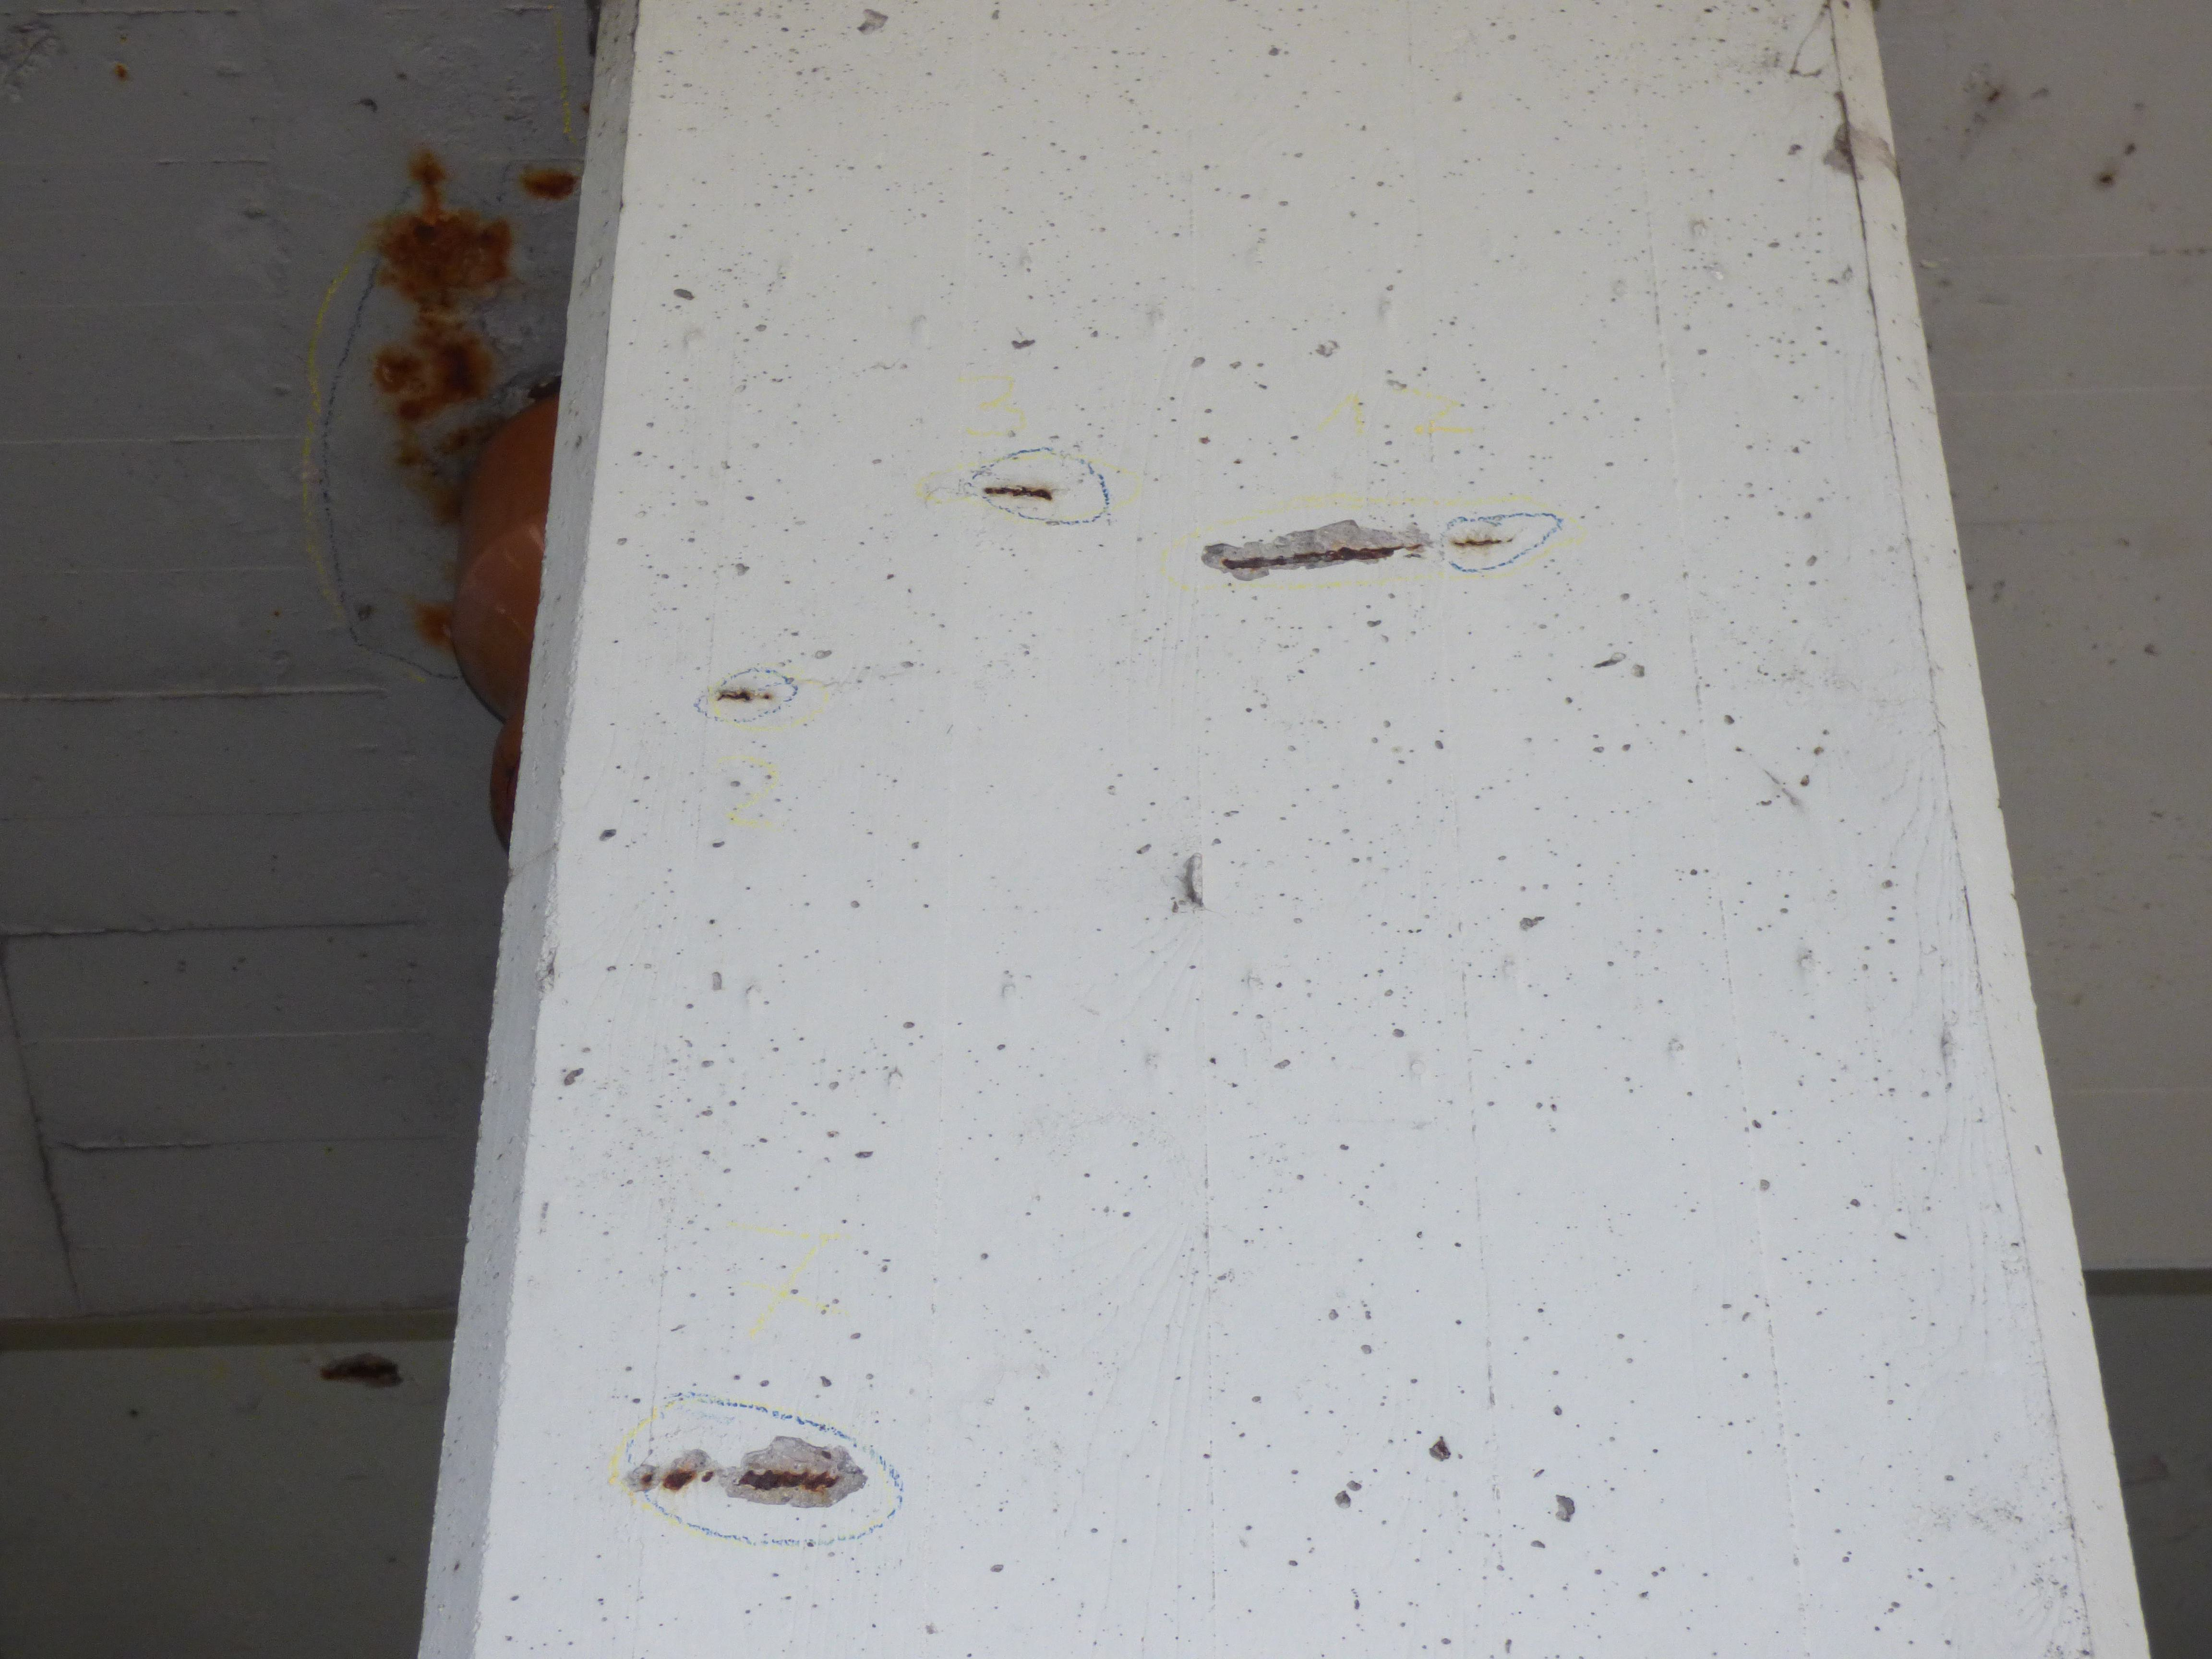Corrosion: (369, 146, 512, 420), (392, 420, 498, 525), (415, 599, 456, 652), (523, 169, 577, 206)
Exposed reinforcement: (1221, 544, 1421, 570), (738, 1469, 838, 1490), (322, 1361, 397, 1378), (641, 1471, 714, 1488), (982, 484, 1052, 502), (716, 692, 770, 702), (1454, 538, 1512, 547)
Spalling: (625, 1434, 867, 1509), (1200, 518, 1435, 582), (319, 1351, 404, 1389)
